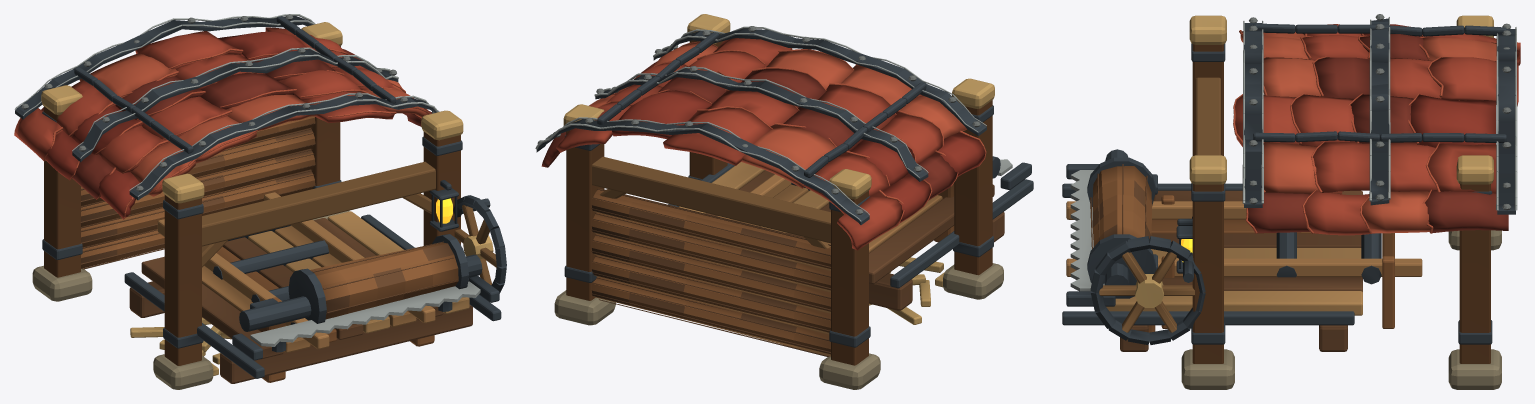
File: sawmill.glb
3 views of the same model, side by side, from view 1: azimuth 30°, elevation 25°; view 2: azimuth 150°, elevation 25°; view 3: azimuth 270°, elevation 25° (orthographic). The views are drawn at different scales.
Parts seen in each view (by area): view 1: sawmill.001; view 2: sawmill.001; view 3: sawmill.001.
Boxes of the visible parts, x1,y1,x2,y2 form: sawmill.001: (14,14,506,389); sawmill.001: (535,14,1033,389); sawmill.001: (1062,14,1520,389).
Size of the model in its own units: 5.04 by 3.29 by 5.41.
